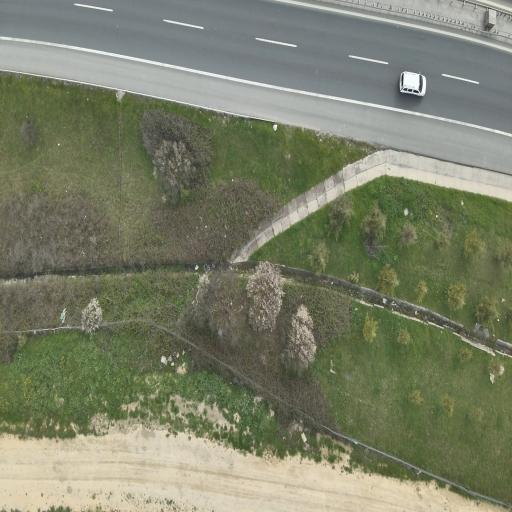car: (399, 72, 426, 96)
